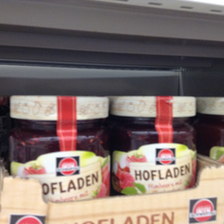jam: (7, 94, 112, 202), (111, 96, 198, 196)
